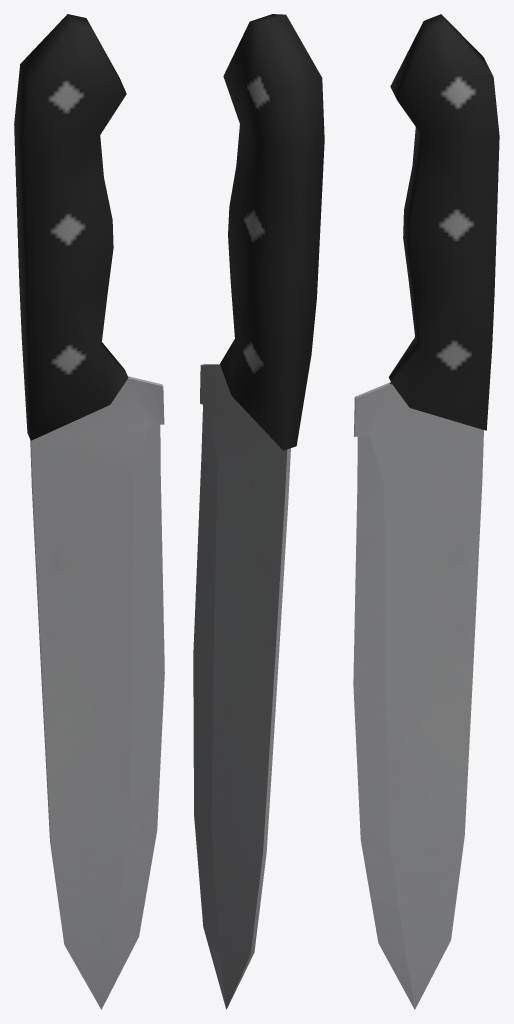
File: Knife.fbx
The picture shows the model from 3 angles, left to right: view 1: azimuth 90°, elevation 25°; view 2: azimuth 210°, elevation 25°; view 3: azimuth 270°, elevation 25°; orthographic projection. The views are drawn at different scales.
Parts seen in each view (by area): view 1: Knife 1 handle_LP.001; view 2: Knife 1 handle_LP.001; view 3: Knife 1 handle_LP.001.
Boxes of the visible parts, x1,y1,x2,y2 form: Knife 1 handle_LP.001: (14, 14, 164, 1009); Knife 1 handle_LP.001: (193, 14, 324, 1009); Knife 1 handle_LP.001: (353, 14, 499, 1009).
Size of the model in its own units: 260 by 3768 by 512.
